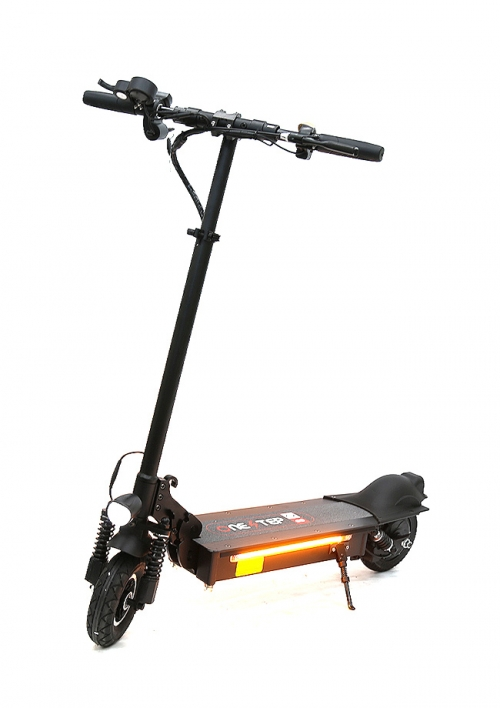kick_board: (83, 81, 426, 643)
kick_body: (179, 503, 373, 576)
kick_handler: (80, 76, 384, 165)
kick_neck: (145, 143, 243, 493)
kick_wheel: (357, 471, 426, 575), (85, 546, 151, 645)
